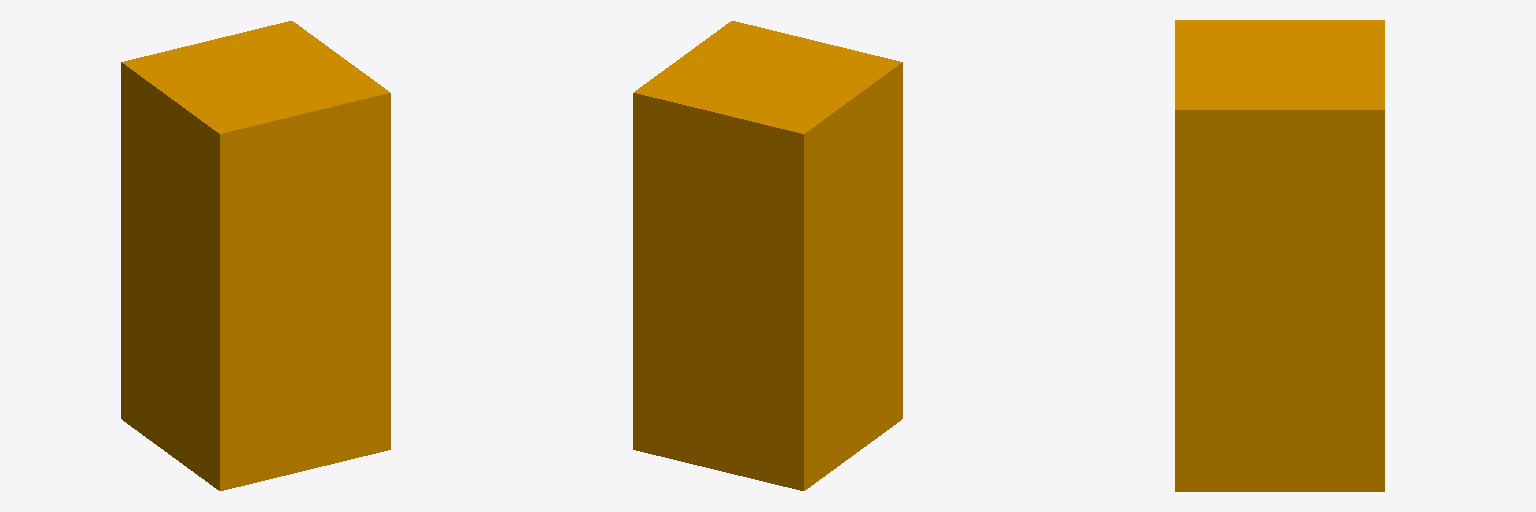
URDF robot description (simple_box):
<robot name="simple_box">
  <link name="my_box">
    <inertial>
      <origin xyz="2 0 0" />
      <mass value="1.0" />
      <inertia  ixx="1.0" ixy="0.0"  ixz="0.0"  iyy="100.0"  iyz="0.0"  izz="1.0" />
    </inertial>
    <visual>
      <origin xyz="2 0 1"/>
      <geometry>
        <box size="1 1 2" />
      </geometry>
    </visual>
    <collision>
      <origin xyz="2 0 1"/>
      <geometry>
        <box size="1 1 2" />
      </geometry>
    </collision>
  </link>
  <gazebo reference="my_box">
    <material>Gazebo/Blue</material>
  </gazebo>
</robot>

--- Facts derived from the render (not from the file) ---
3 views of the same robot in one strip: view 1: azimuth 30°, elevation 25°; view 2: azimuth 150°, elevation 25°; view 3: azimuth 270°, elevation 25° (orthographic).
Model simple_box with 1 links and 0 joints (none), rooted at my_box, posed all joints at 0.
Visible links, largest first — view 1: my_box; view 2: my_box; view 3: my_box.
Link boxes in pixels (bbox=[...]): my_box: bbox=[121, 21, 390, 490]; my_box: bbox=[633, 21, 902, 490]; my_box: bbox=[1175, 20, 1384, 491].
Bounding box of the posed robot: 1 × 1 × 2 m (x, y, z).
Geometry: primitives only (box / cylinder / sphere), no mesh files.